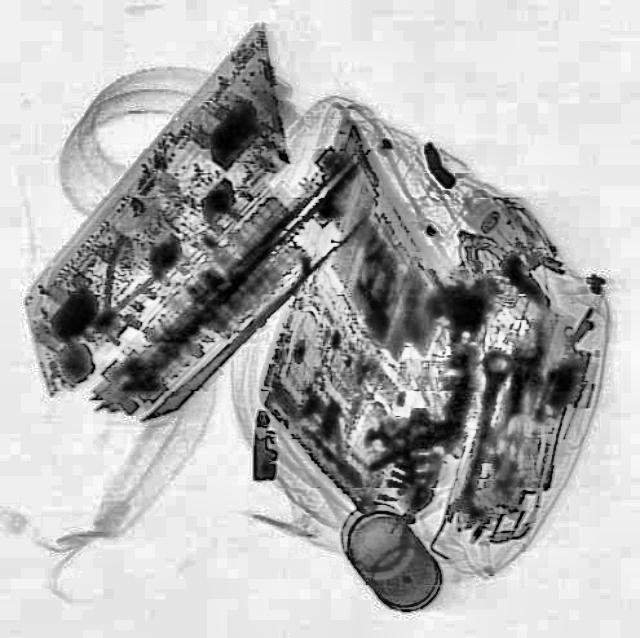Wrench: (438, 345, 520, 533)
